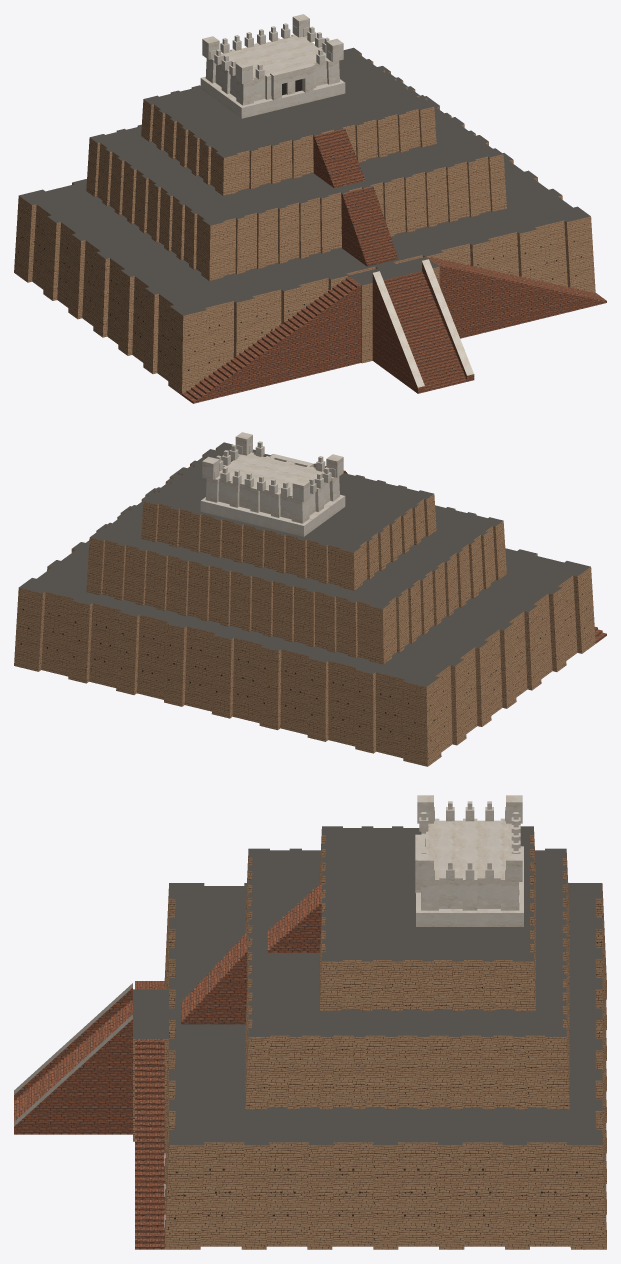
The model's file is ziggurat_ur.glb.
The picture shows the model from 3 angles, top to bottom: view 1: azimuth 30°, elevation 25°; view 2: azimuth 150°, elevation 25°; view 3: azimuth 270°, elevation 25°; orthographic projection. The views are drawn at different scales.
Parts seen in each view (by area): view 1: ziggurat_ur; view 2: ziggurat_ur; view 3: ziggurat_ur.
Part boxes in pixels (x1,y1,x2,y2): ziggurat_ur: [14, 14, 606, 403]; ziggurat_ur: [14, 432, 606, 766]; ziggurat_ur: [14, 795, 606, 1249].
Size of the model in its own units: 64 by 32.4 by 60.31.
Materials: 5 (3 with a texture image).
